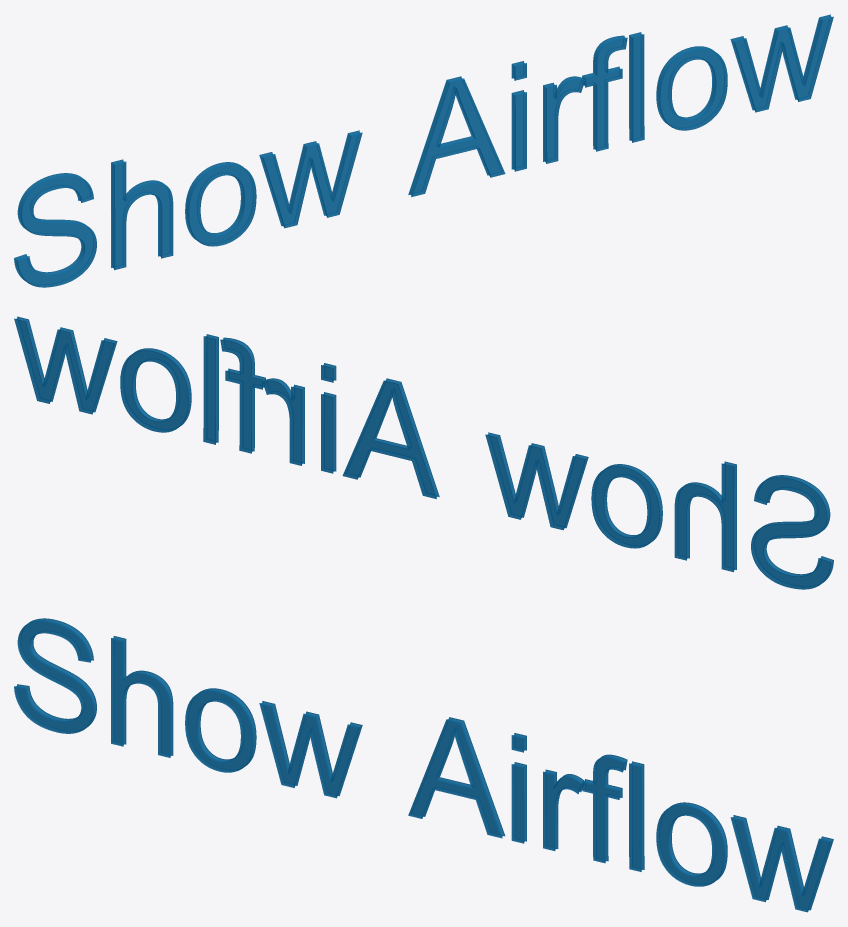
Rendered from show_airflow.FBX.
3 renders of one model, top to bottom at view 1: azimuth 30°, elevation 25°; view 2: azimuth 150°, elevation 25°; view 3: azimuth 330°, elevation 25°, orthographic.
Parts seen in each view (by area): view 1: show_airflow; view 2: show_airflow; view 3: show_airflow.
Part boxes in pixels (left/top/right/bottom): show_airflow: left=14, top=14, right=833, bottom=287; show_airflow: left=14, top=316, right=833, bottom=589; show_airflow: left=14, top=618, right=833, bottom=912.
Size of the model in its own units: 32.36 by 4.18 by 0.2294.
